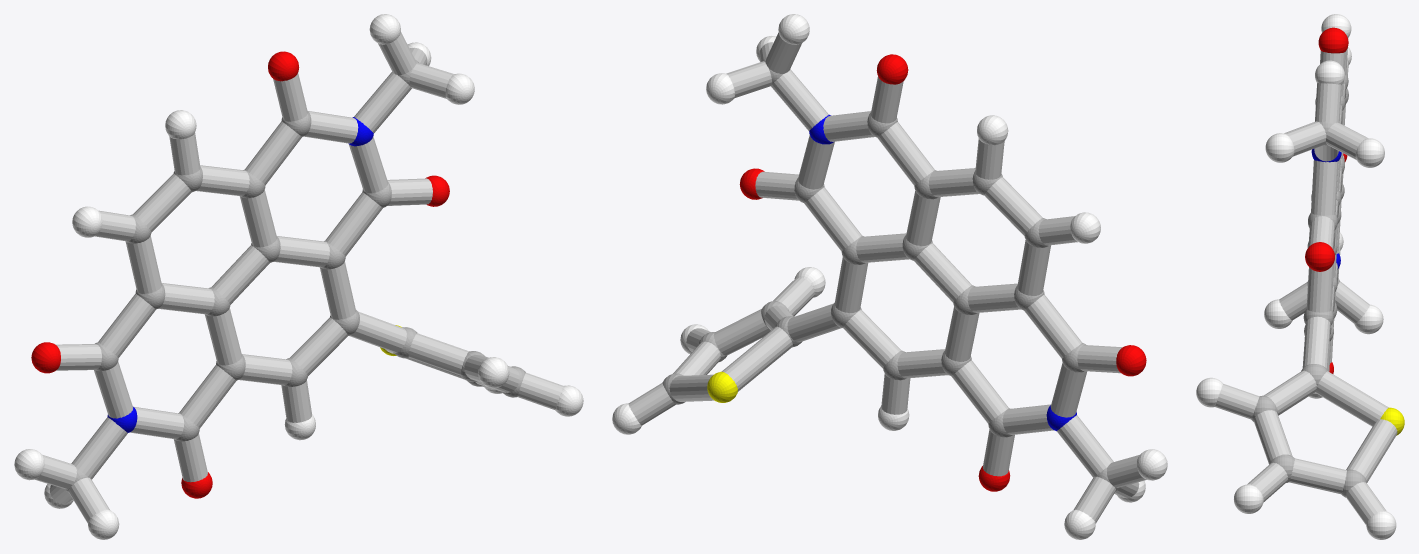
File: Dimethyl_Naphthalene_Dicarboximide_Phi_0_Theta_80_Thiophene.glb
3 renders of one model, left to right at view 1: azimuth 30°, elevation 25°; view 2: azimuth 150°, elevation 25°; view 3: azimuth 270°, elevation 25°, orthographic. The views are drawn at different scales.
Parts seen in each view (by area): view 1: grp14119, grp7241, grp1, grp12309, grp11585; view 2: grp14119, grp7241, grp1, grp12309, grp13757, grp11585; view 3: grp14119, grp7241, grp1, grp12309, grp13757.
Boxes of the visible parts, x1,y1,x2,y2 form: grp14119: [35, 32, 563, 523]; grp7241: [14, 14, 583, 539]; grp1: [64, 60, 525, 492]; grp12309: [31, 51, 449, 498]; grp11585: [107, 117, 373, 432]; grp14119: [628, 32, 1146, 523]; grp7241: [612, 14, 1167, 539]; grp1: [662, 58, 1120, 490]; grp12309: [739, 54, 1146, 491]; grp13757: [707, 371, 737, 402]; grp11585: [809, 114, 1076, 431]; grp14119: [1215, 38, 1397, 524]; grp7241: [1196, 14, 1396, 539]; grp1: [1251, 74, 1366, 497]; grp12309: [1305, 27, 1348, 373]; grp13757: [1380, 407, 1404, 435].
Bounding box in the file's own units: 11.54 × 9.11 × 4.16.
